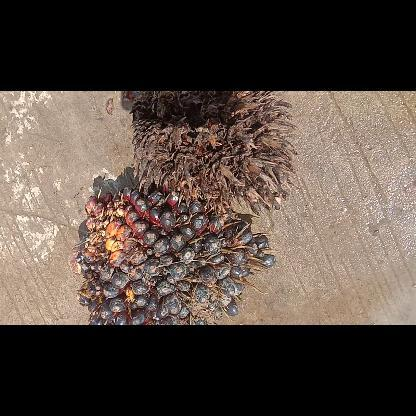Janjang kosong: (131, 91, 297, 215)
TBS mentah: (69, 182, 280, 324)
